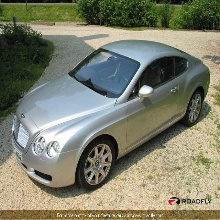no damage: (12, 40, 211, 191)
